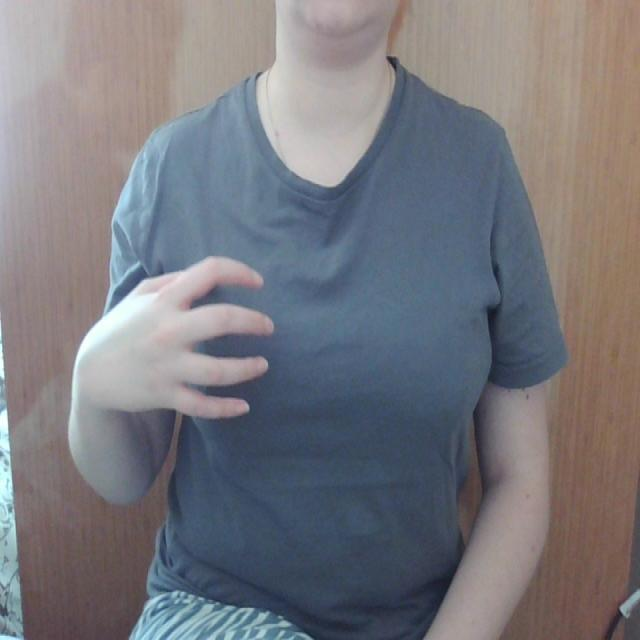Anne: (72, 218, 502, 442)
